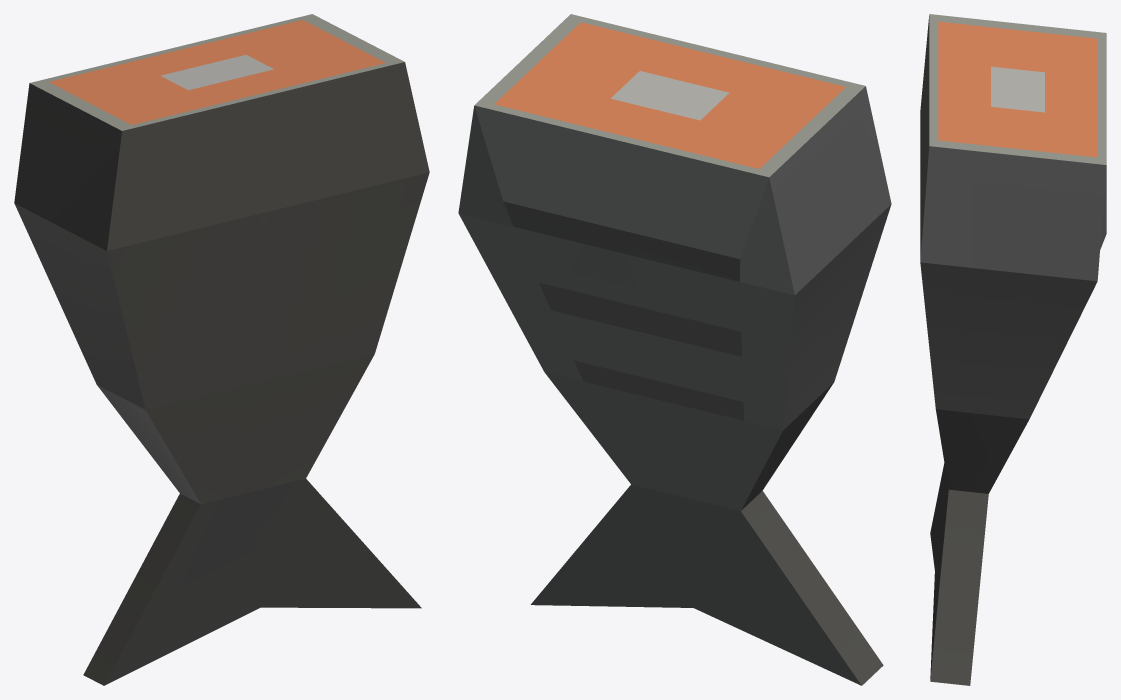
The model's file is Fish_Sliced.fbx.
3 renders of one model, left to right at view 1: azimuth 30°, elevation 25°; view 2: azimuth 150°, elevation 25°; view 3: azimuth 270°, elevation 25°, orthographic. The views are drawn at different scales.
Visible parts, largest first — view 1: Fish_Right, Fish_Left; view 2: Fish_Right, Fish_Left; view 3: Fish_Left, Fish_Right.
Boxes of the visible parts, x1=… form: Fish_Right: x1=14, y1=48, x2=267, y2=685; Fish_Left: x1=171, y1=14, x2=429, y2=608; Fish_Right: x1=622, y1=50, x2=891, y2=685; Fish_Left: x1=458, y1=14, x2=717, y2=607; Fish_Left: x1=920, y1=80, x2=1106, y2=685; Fish_Right: x1=920, y1=14, x2=1106, y2=569.
Bounding box in the file's own units: 0.2617 × 0.4304 × 0.1368.
